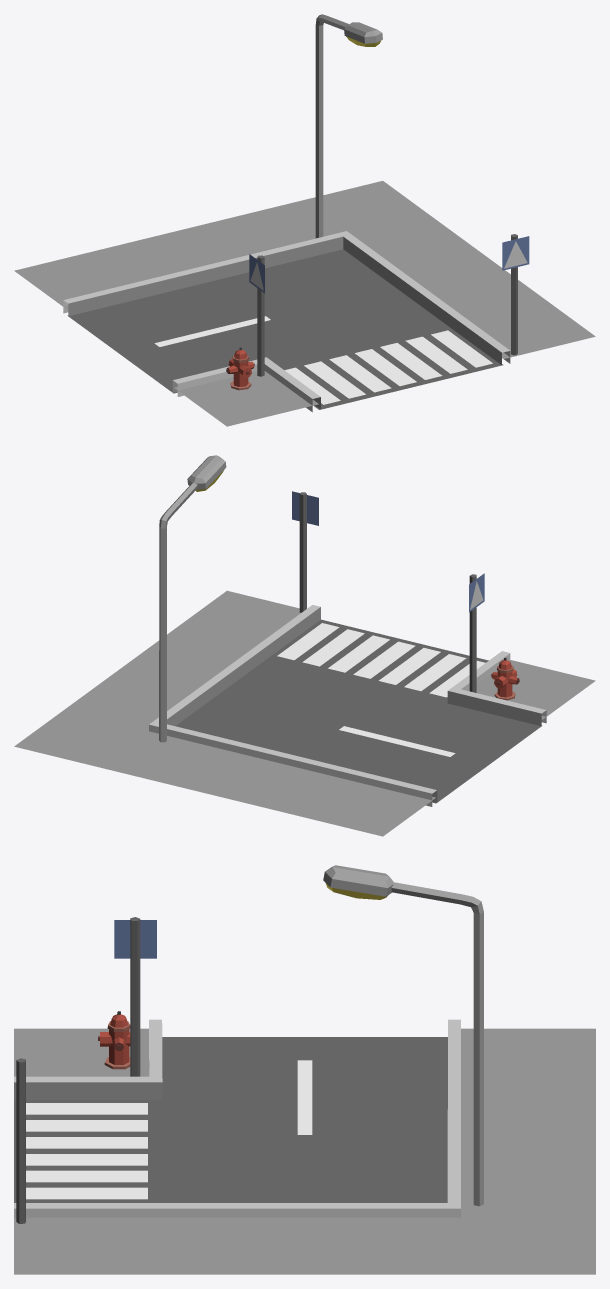
Rendered from road_tile_1x1_003.glb.
3 views of the same model, one above another, from view 1: azimuth 30°, elevation 25°; view 2: azimuth 150°, elevation 25°; view 3: azimuth 270°, elevation 25° (orthographic). The views are drawn at different scales.
Parts seen in each view (by area): view 1: road_tile_1x1_003; view 2: road_tile_1x1_003; view 3: road_tile_1x1_003.
Boxes of the visible parts, left/top/right/bottom form: road_tile_1x1_003: left=14, top=14, right=595, bottom=426; road_tile_1x1_003: left=14, top=455, right=595, bottom=836; road_tile_1x1_003: left=14, top=865, right=595, bottom=1274.
Bounding box in the file's own units: 8 × 5.25 × 8.
1 material, 1 textured.
